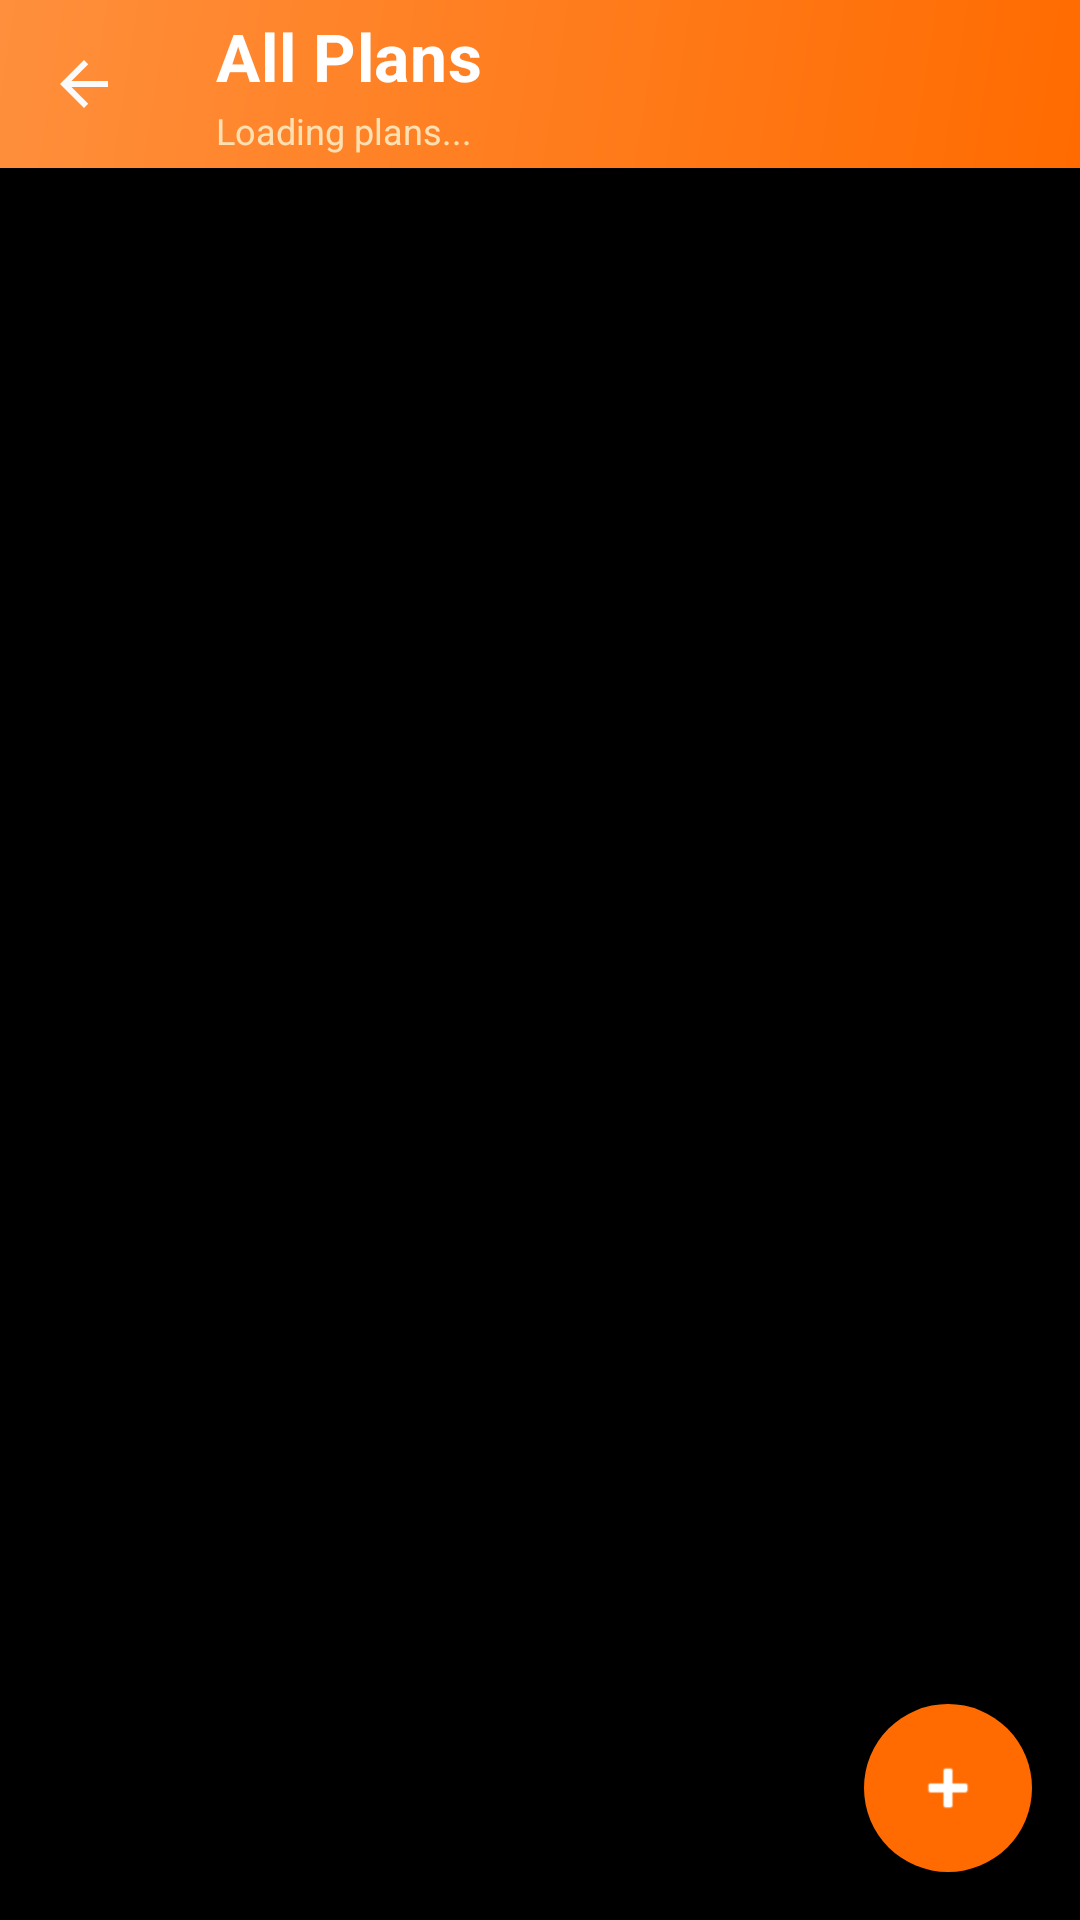

Named icons in this screenshot (1080 x 1920) and their bounding boxes, (left=x1, top=y1, right=x2, bottom=y2):
Add Gym Plan: (left=864, top=1704, right=1032, bottom=1872)
